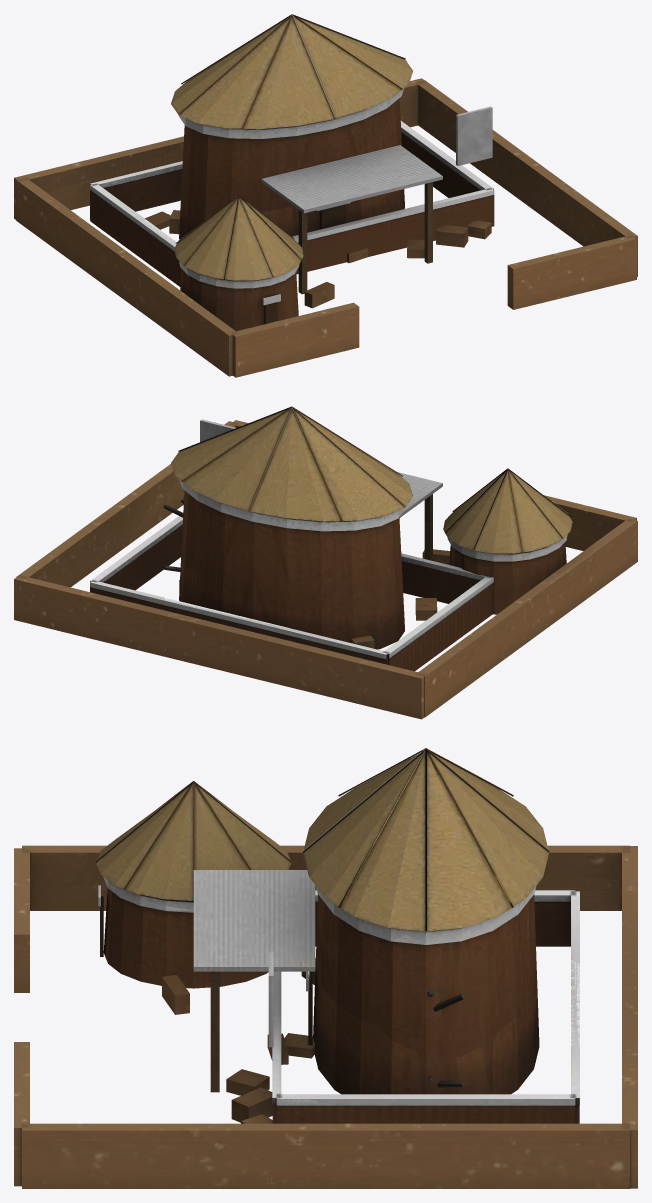
The model's file is civic-bronze-westafrica.glb.
The picture shows the model from 3 angles, top to bottom: view 1: azimuth 30°, elevation 25°; view 2: azimuth 150°, elevation 25°; view 3: azimuth 270°, elevation 25°; orthographic projection. The views are drawn at different scales.
Parts seen in each view (by area): view 1: LOD0, LOD0.001, LOD0.002; view 2: LOD0, LOD0.001, LOD0.002; view 3: LOD0, LOD0.001, LOD0.002.
Part boxes in pixels (x1=…): LOD0: x1=14, y1=14, x2=637, y2=377; LOD0.001: x1=15, y1=30, x2=636, y2=308; LOD0.002: x1=14, y1=149, x2=636, y2=375; LOD0: x1=14, y1=406, x2=637, y2=719; LOD0.001: x1=14, y1=419, x2=450, y2=718; LOD0.002: x1=98, y1=421, x2=637, y2=719; LOD0: x1=14, y1=748, x2=637, y2=1188; LOD0.001: x1=22, y1=757, x2=637, y2=1188; LOD0.002: x1=22, y1=845, x2=632, y2=1188.
Size of what is drawn, in the model's own units: 1.88 by 0.92 by 1.74.
Materials: 2 (2 with a texture image).
